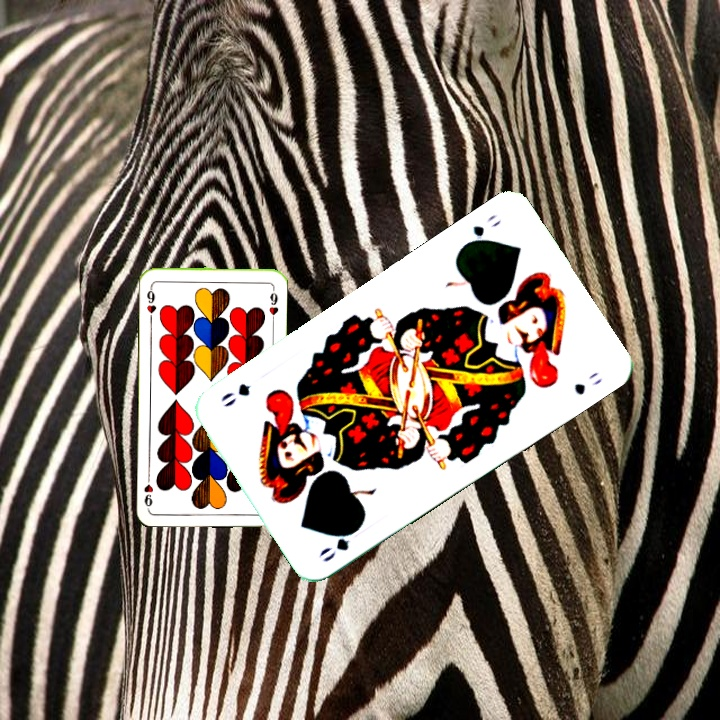GO: (315, 520, 365, 565), (457, 210, 504, 251)
H9: (142, 281, 158, 321)
